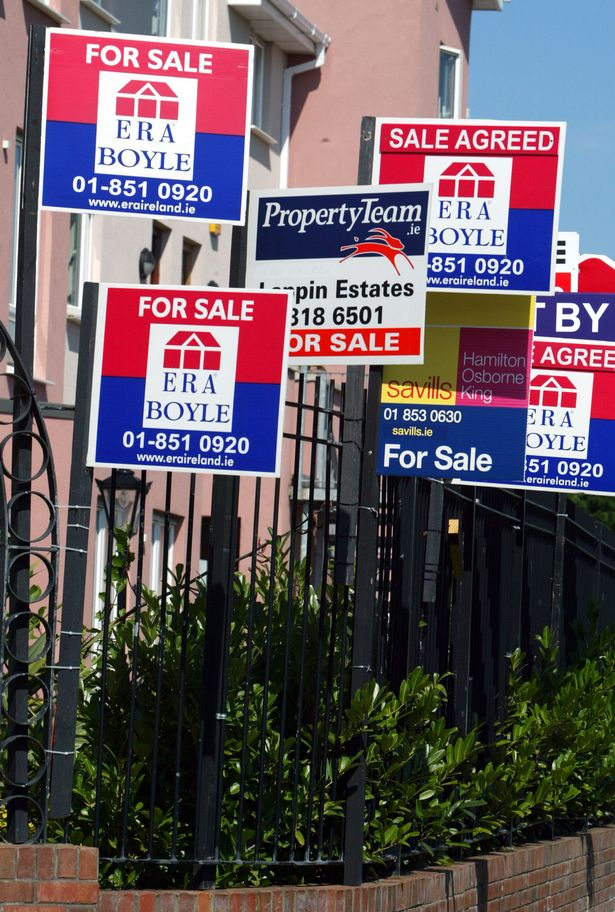property sign: (76, 260, 301, 489), (32, 16, 251, 240), (358, 103, 574, 291), (249, 170, 429, 367), (383, 297, 536, 498), (531, 286, 615, 548)
